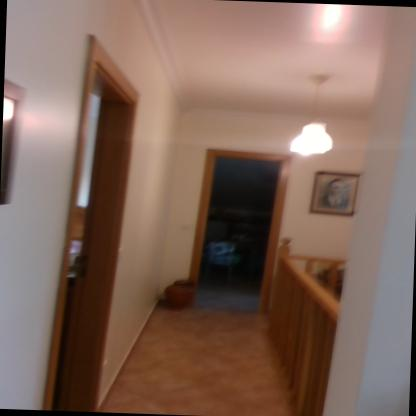open: (62, 38, 146, 414), (188, 134, 298, 335)
